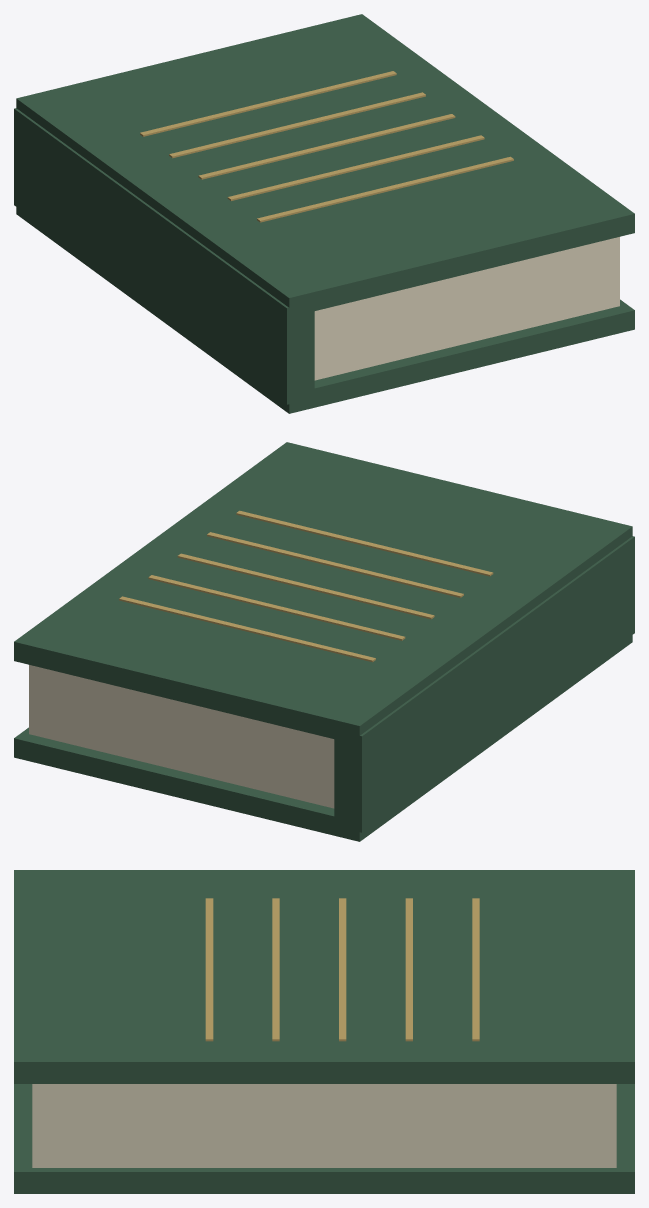
The model's file is book.glb.
The picture shows the model from 3 angles, top to bottom: view 1: azimuth 30°, elevation 25°; view 2: azimuth 150°, elevation 25°; view 3: azimuth 270°, elevation 25°; orthographic projection. The views are drawn at different scales.
Bounding box in the file's own units: 1.51 × 0.4885 × 2.05.
